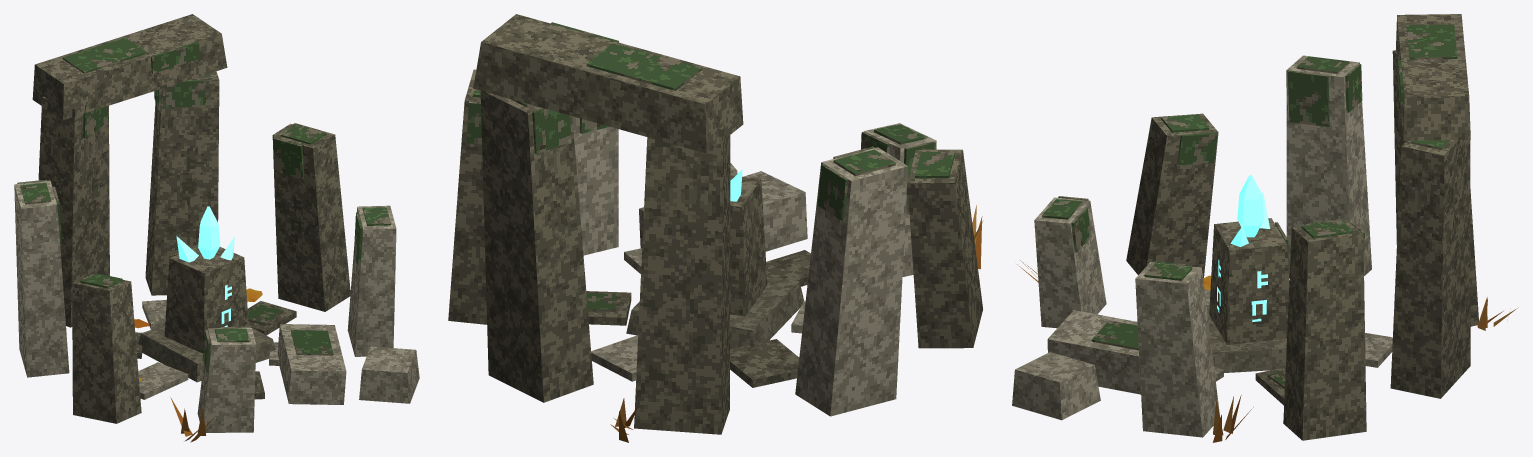
File: stone_circle.glb
The picture shows the model from 3 angles, left to right: view 1: azimuth 30°, elevation 25°; view 2: azimuth 150°, elevation 25°; view 3: azimuth 270°, elevation 25°; orthographic projection. The views are drawn at different scales.
Visible parts, largest first — view 1: stone_circle, glow_crystal; view 2: stone_circle; view 3: stone_circle, glow_crystal.
Part boxes in pixels (x1,y1,x2,y2): stone_circle: (14,14,419,442); glow_crystal: (176,206,234,326); stone_circle: (448,14,983,442); stone_circle: (1012,14,1518,442); glow_crystal: (1217,175,1270,321).
Bounding box in the file's own units: 4.22 × 3.06 × 4.67.
11 materials, 4 textured.
